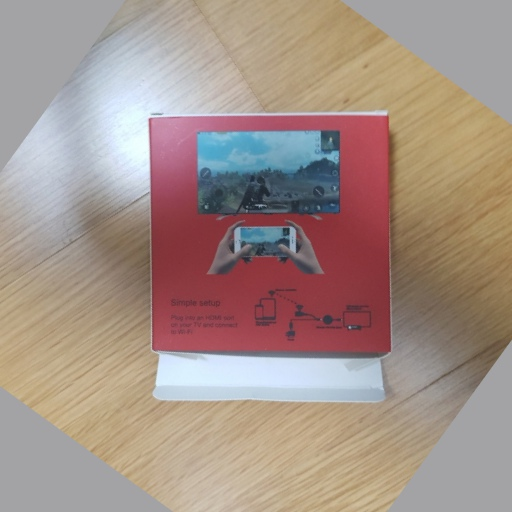Paper_0: (139, 109, 399, 411)
